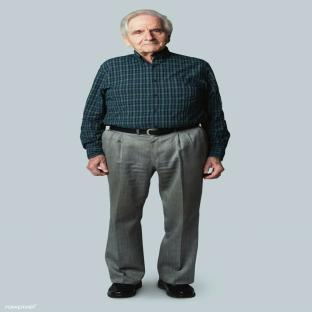Human: (80, 10, 229, 298)
